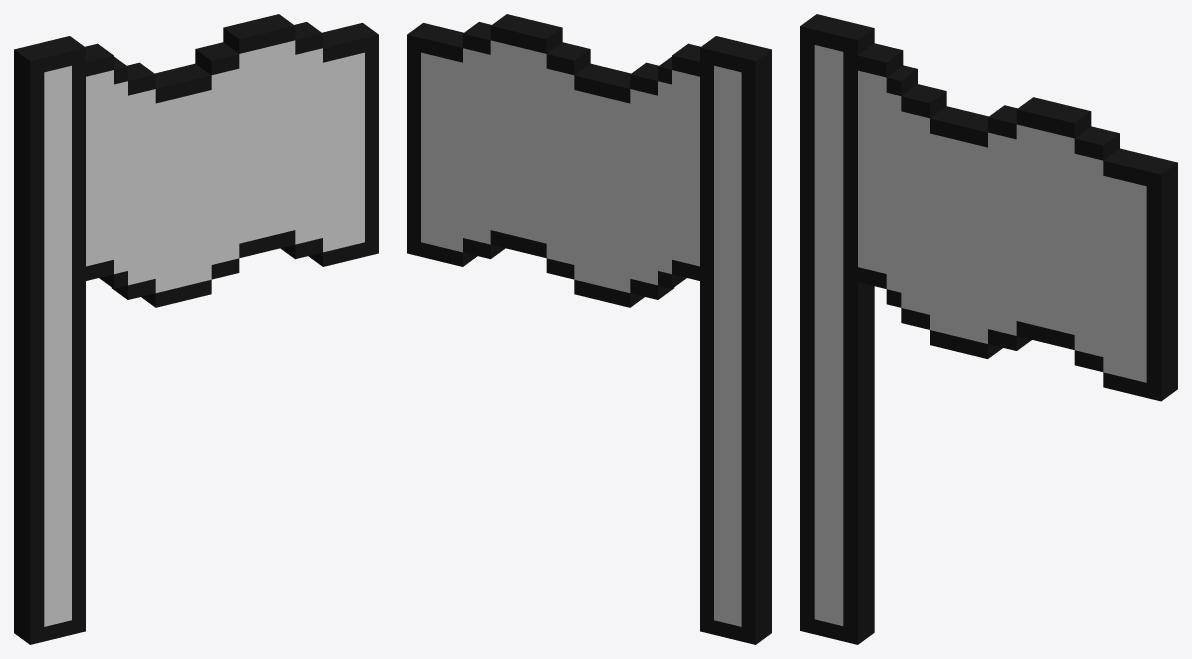
Rendered from indicator_nominated.obj.
The picture shows the model from 3 angles, left to right: view 1: azimuth 30°, elevation 25°; view 2: azimuth 150°, elevation 25°; view 3: azimuth 330°, elevation 25°; orthographic projection. The views are drawn at different scales.
Parts seen in each view (by area): view 1: indicator_nominated; view 2: indicator_nominated; view 3: indicator_nominated.
Part boxes in pixels (box(x1,y1,x2,y2)): indicator_nominated: box(14, 14, 378, 644); indicator_nominated: box(407, 14, 771, 644); indicator_nominated: box(800, 14, 1177, 644).
Bounding box in the file's own units: 2.5 × 4 × 0.2.
Materials: 1 (1 with a texture image).
